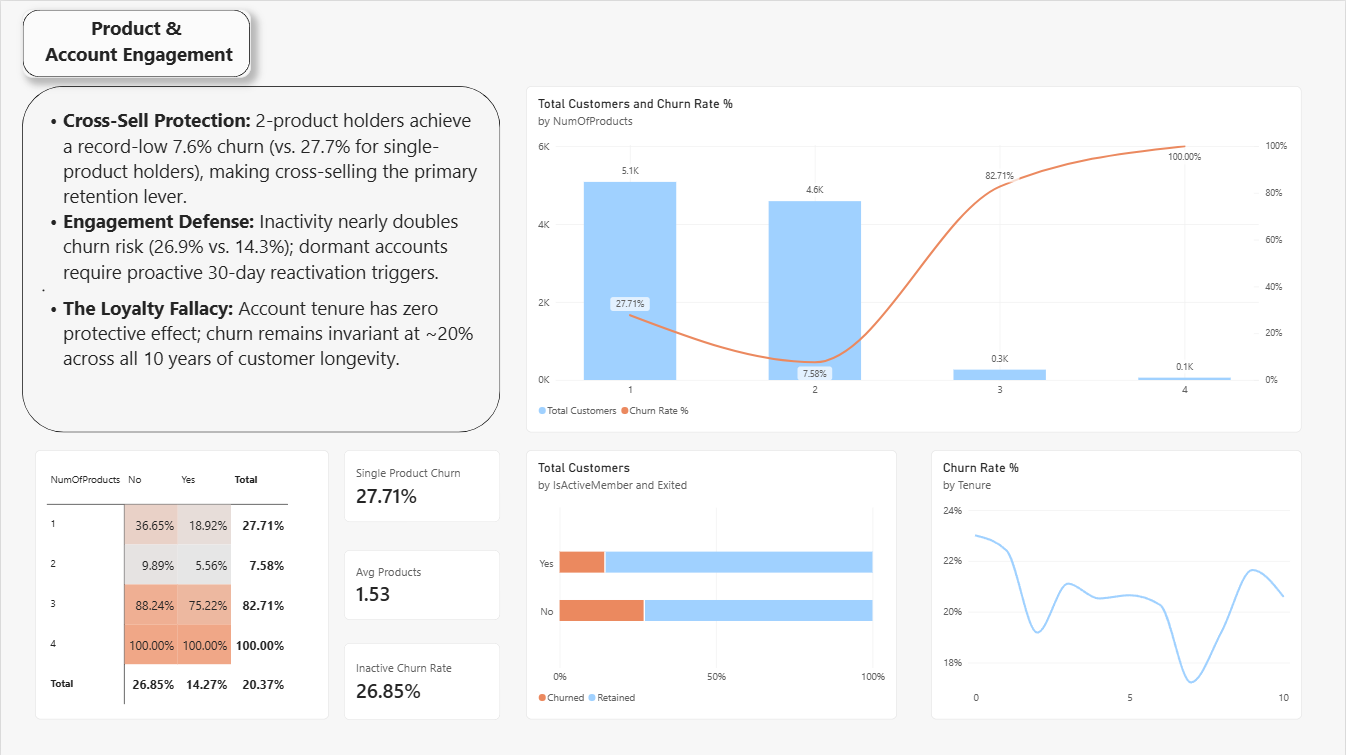

Layout of this report page (visuals, bound fields, positions):
{"tool":"powerbi","page":{"name":"Product & Account Engagement","canvas":[1920,1080],"ordinal":2},"visuals":[{"type":"shape","box":[30,11.7,326.7,98.3],"z":0},{"type":"shape","box":[30,121.7,683.3,495],"z":1000},{"type":"textbox","box":[48.3,20,296.7,90],"z":2000},{"type":"cardVisual","fields":{"Data":["_Key Measures.Avg Products"]},"box":[490,785,223.3,100],"z":2000,"group":"g1"},{"type":"lineClusteredColumnComboChart","fields":{"Category":["Account_Info.NumOfProducts"],"Y":["_Key Measures.Total Customers"],"Y2":["_Key Measures.Churn Rate %"]},"box":[750,121.7,1108.3,495],"z":3000},{"type":"cardVisual","fields":{"Data":["_Key Measures.Inactive Churn Rate"]},"box":[490,916.7,223.3,110],"z":3000,"group":"g1"},{"type":"cardVisual","fields":{"Data":["_Key Measures.Single Product Churn"]},"box":[490,641.7,223.3,103.3],"z":4000,"group":"g1"},{"type":"hundredPercentStackedBarChart","fields":{"Category":["Account_Info.IsActiveMember"],"Series":["Account_Info.Exited"],"Y":["_Key Measures.Total Customers"]},"box":[750,641.7,530,385],"z":4000},{"type":"lineChart","fields":{"Category":["Account_Info.Tenure"],"Y":["_Key Measures.Churn Rate %"]},"box":[1328.3,641.7,530,385],"z":5000},{"type":"group","id":"g1","title":"Group 1","box":[490,641.7,223.3,385],"z":6000},{"type":"pivotTable","fields":{"Columns":["Account_Info.IsActiveMember"],"Rows":["Account_Info.NumOfProducts"],"Values":["_Key Measures.Churn Rate %"]},"box":[48.3,641.7,420,385],"z":7000},{"type":"textbox","box":[48.6,151.4,638.6,431.4],"z":8000}]}

Visuals, with their boxes in screenshot pixels (x1, y1, x2, y2), scaled from the page's 1920x1080 canvas onto the 1346x755 screenshot:
shape: [21, 8, 250, 77]
shape: [21, 85, 500, 431]
textbox: [34, 14, 242, 77]
cardVisual - _Key Measures.Avg Products: [344, 549, 500, 619]
lineClusteredColumnComboChart - Account_Info.NumOfProducts x _Key Measures.Total Customers: [526, 85, 1303, 431]
cardVisual - _Key Measures.Inactive Churn Rate: [344, 641, 500, 718]
cardVisual - _Key Measures.Single Product Churn: [344, 449, 500, 521]
hundredPercentStackedBarChart - Account_Info.IsActiveMember x Account_Info.Exited: [526, 449, 897, 718]
lineChart - Account_Info.Tenure x _Key Measures.Churn Rate %: [931, 449, 1303, 718]
"Group 1" group: [344, 449, 500, 718]
pivotTable - Account_Info.IsActiveMember x Account_Info.NumOfProducts: [34, 449, 328, 718]
textbox: [34, 106, 482, 407]
